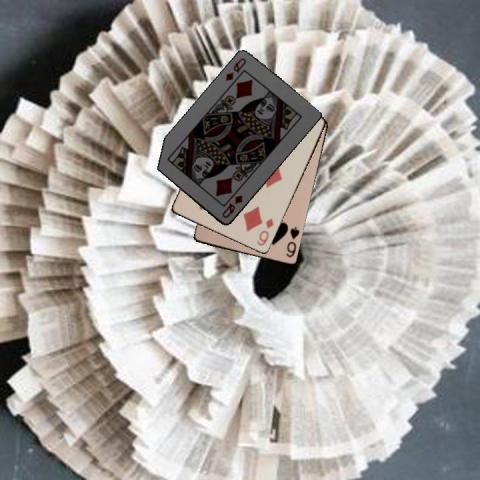6d: (254, 216, 275, 248)
6s: (284, 224, 302, 259)
Qd: (219, 192, 244, 220), (223, 55, 248, 83)
